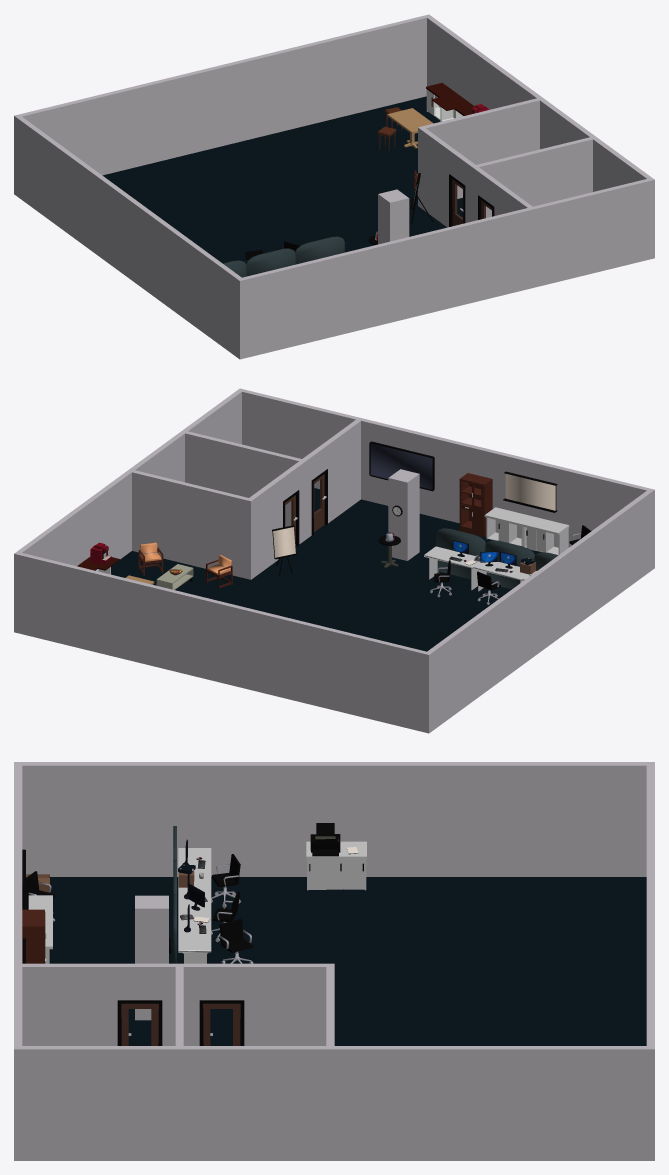
File: level_office.glb
3 renders of one model, top to bottom at view 1: azimuth 30°, elevation 25°; view 2: azimuth 150°, elevation 25°; view 3: azimuth 270°, elevation 25°, orthographic. The views are drawn at different scales.
Visible parts, largest first — view 1: walls, floor, pillar, separator, separator.001, Table_Box, door, kitchen_cabinet, kitchen_cabinet.001; view 2: walls, floor, pillar, walltv, Shelf, whiteboardbig, cabinet.001, cabinet, separator, separator.001, desk, door.001 (+6 smaller); view 3: walls, floor, pillar, cabinet.002, desk, door.001, door, Shelf, Chair_Office.003, Printer, desk.002, desk.001 (+1 smaller).
Boxes of the visible parts, <box> form: walls: <box>14,14,654,359</box>; floor: <box>102,96,462,263</box>; pillar: <box>378,189,409,244</box>; separator: <box>295,236,344,264</box>; separator.001: <box>246,248,295,276</box>; Table_Box: <box>387,108,433,148</box>; door: <box>449,174,465,226</box>; kitchen_cabinet: <box>426,82,456,121</box>; kitchen_cabinet.001: <box>432,93,470,121</box>; walls: <box>14,388,654,733</box>; floor: <box>111,488,540,651</box>; pillar: <box>388,469,419,560</box>; walltv: <box>369,441,434,491</box>; Shelf: <box>459,473,492,537</box>; whiteboardbig: <box>503,471,557,512</box>; cabinet.001: <box>521,516,569,555</box>; cabinet: <box>484,507,531,546</box>; separator: <box>436,528,485,579</box>; separator.001: <box>485,540,535,589</box>; desk: <box>424,546,480,590</box>; door.001: <box>311,469,327,535</box>; walls: <box>14,762,654,1160</box>; floor: <box>26,877,646,1045</box>; pillar: <box>135,895,168,1020</box>; cabinet.002: <box>306,841,366,890</box>; desk: <box>178,916,211,963</box>; door.001: <box>117,1000,162,1045</box>; door: <box>199,1000,244,1045</box>; Shelf: <box>22,909,46,963</box>; Chair_Office.003: <box>219,919,253,963</box>; Printer: <box>310,823,340,856</box>; desk.002: <box>178,848,211,881</box>; desk.001: <box>178,882,211,915</box>.
Bounding box in the file's own units: 34.84 × 6.56 × 32.84.
1 material, 1 textured.
